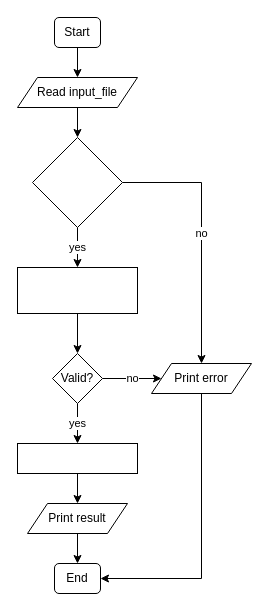
This 269x611 diagram has some shape labels left out. The shapes that lost their labels are listed below. From the top down, each one's centre as x and y in pixels, then its label:
At (77,182): "Found and Readable?".
At (77,290): "Validate present_dimensions lines".
At (77,458): "Compute total_paper_area".
